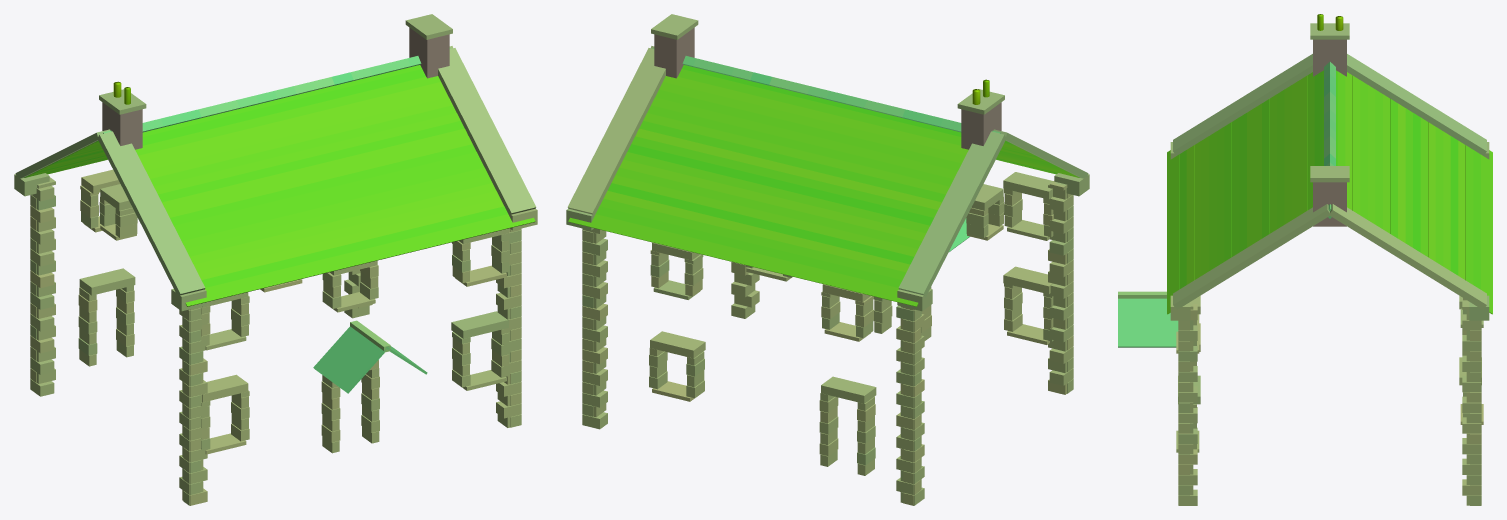
Rendered from SM_Bld_073_Stone.glb.
3 renders of one model, left to right at view 1: azimuth 30°, elevation 25°; view 2: azimuth 150°, elevation 25°; view 3: azimuth 270°, elevation 25°, orthographic. The views are drawn at different scales.
Visible parts, largest first — view 1: SM_Bld_073_Stone; view 2: SM_Bld_073_Stone; view 3: SM_Bld_073_Stone.
Boxes of the visible parts, box(x1,y1,x2,y2) form: SM_Bld_073_Stone: box(14, 14, 537, 505); SM_Bld_073_Stone: box(566, 14, 1089, 505); SM_Bld_073_Stone: box(1118, 14, 1492, 505).
Size of the model in its own units: 10.3 by 9.95 by 9.87.
